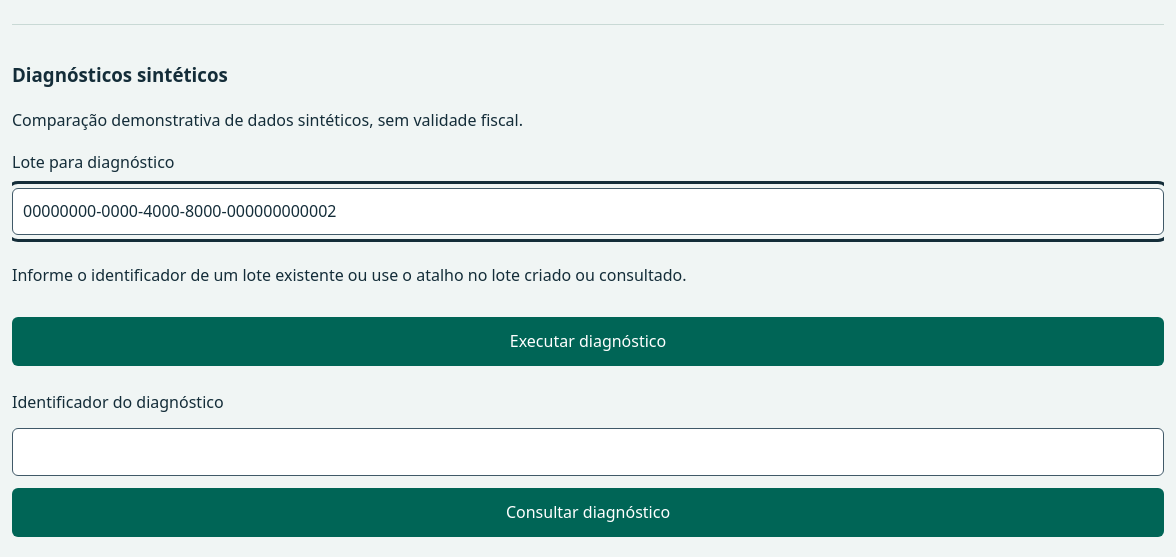
it: recovers an uncertain result by freezing the batch and repeating the identical body explicitly
Click the button "Executar diagnóstico" at (588, 342), box [12,317,1164,366]
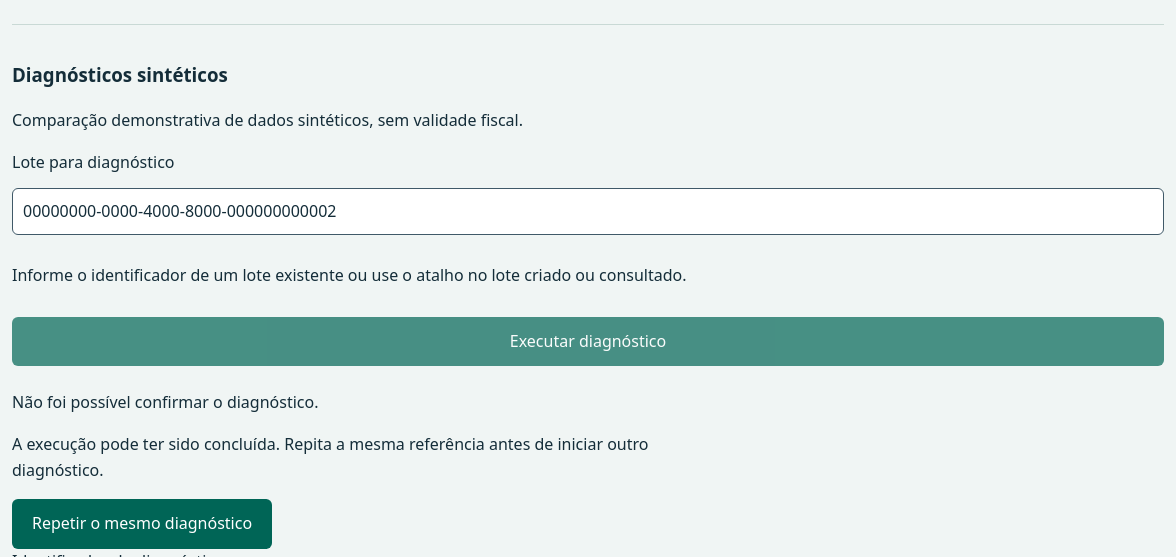
Expected: the field labelled "Lote para diagnóstico" is disabled, [12,188,1164,235]
Click the button "Repetir o mesmo diagnóstico" at (142, 524), box [12,499,272,549]
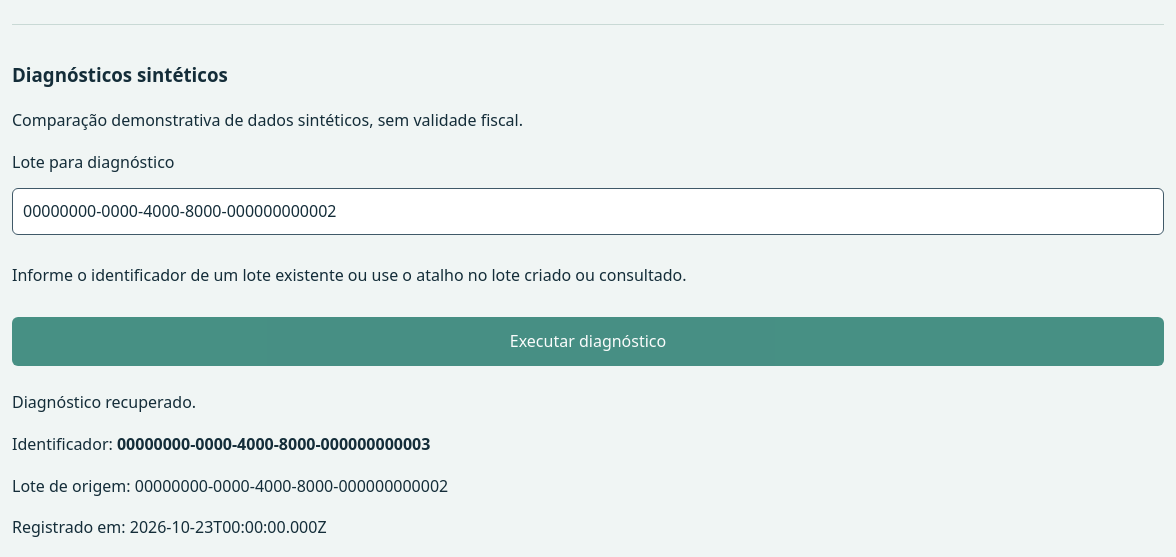
Expected: the text "00000000-0000-4000-8000-000000000003" is shown, [117,433,430,455]
